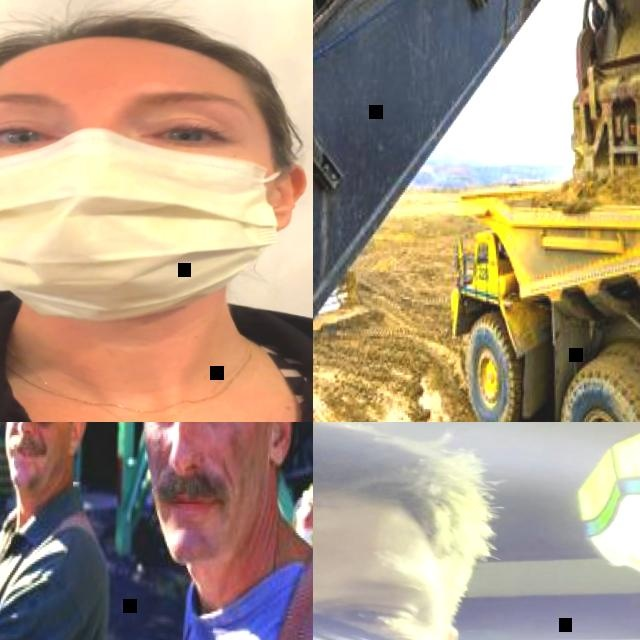Mask: (0, 138, 278, 327)
NO-Hardhat: (0, 9, 273, 101), (313, 422, 464, 573)
NO-Mask: (144, 461, 268, 570), (0, 431, 66, 490)
NO-Safety Vest: (0, 327, 313, 422), (0, 514, 109, 640)
Person: (0, 0, 313, 422), (313, 422, 575, 640), (94, 422, 313, 640), (0, 422, 120, 640)
machinery: (313, 0, 640, 422), (440, 172, 640, 422)
